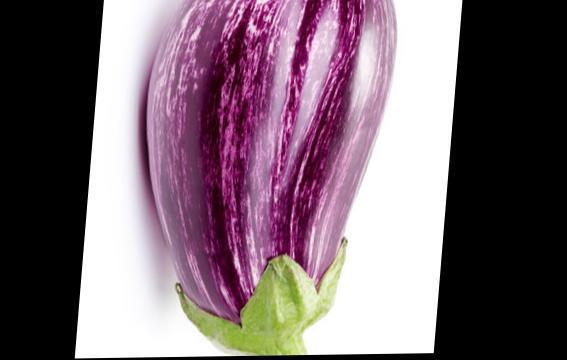eggplant: (135, 0, 389, 357)
